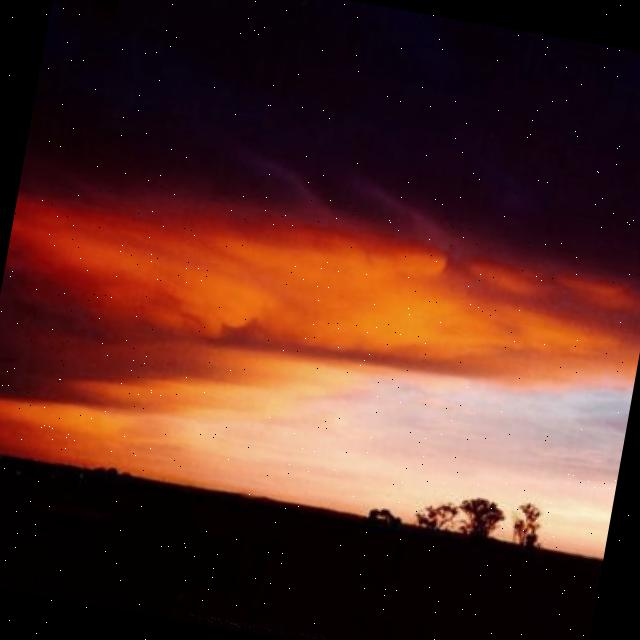As: (1, 55, 640, 469)
